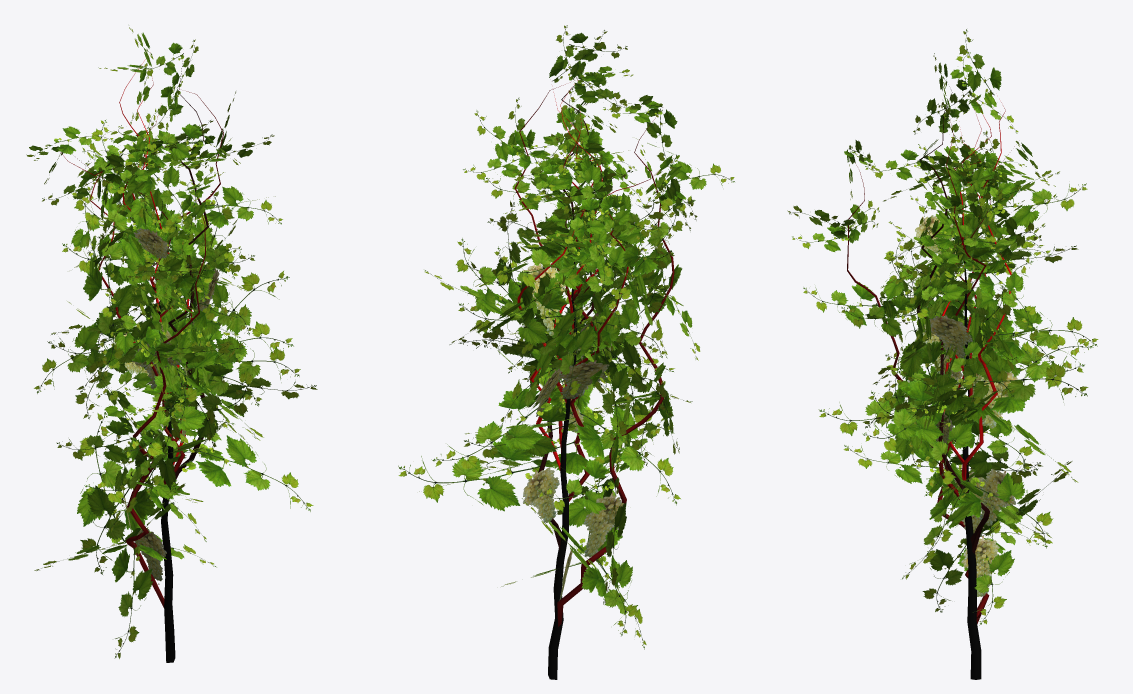
File: grape2 lod0.FBX
3 renders of one model, left to right at view 1: azimuth 30°, elevation 25°; view 2: azimuth 150°, elevation 25°; view 3: azimuth 270°, elevation 25°, orthographic. The views are drawn at different scales.
Parts seen in each view (by area): view 1: grape2; view 2: grape2; view 3: grape2.
Boxes of the visible parts, x1,y1,x2,y2 form: grape2: (26, 27, 317, 662); grape2: (398, 25, 734, 679); grape2: (787, 29, 1098, 679).
Size of the model in its own units: 24911 by 57165 by 27420.
